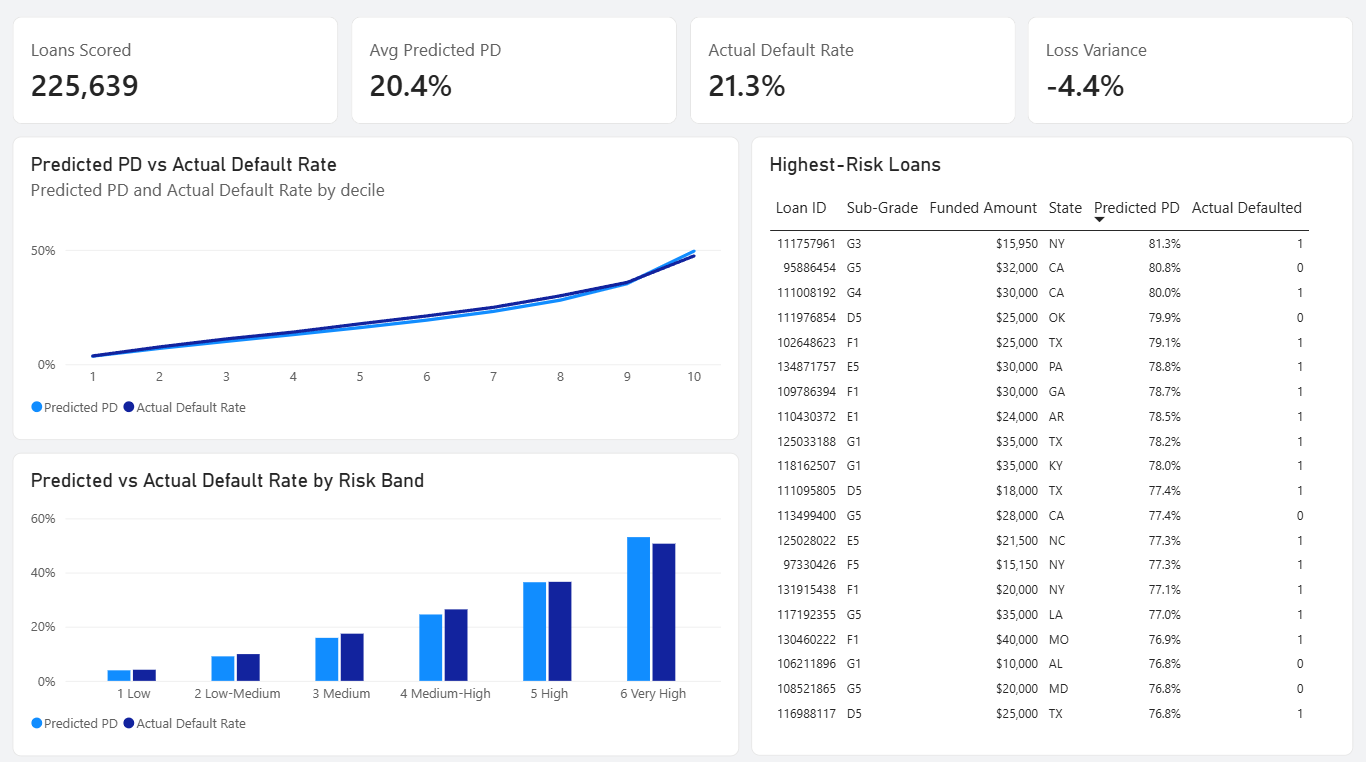

The page's visual inventory and layout, read from the dashboard file:
{"tool":"powerbi","page":{"name":"Model & Risk","canvas":[1280,720],"ordinal":2},"visuals":[{"type":"cardVisual","fields":{"Data":["fact_scored_loans.Actual Default Rate"]},"box":[646,16,303,100],"z":0},{"type":"cardVisual","fields":{"Data":["fact_scored_loans.Avg Predicted PD"]},"box":[331,16,303,100],"z":1000},{"type":"cardVisual","fields":{"Data":["fact_scored_loans.Loans Scored"]},"box":[16,16,303,100],"z":2000},{"type":"cardVisual","fields":{"Data":["fact_scored_loans.Loss Variance"]},"box":[961,16,303,100],"z":3000},{"type":"lineChart","title":"Predicted PD vs Actual Default Rate","fields":{"Category":["agg_model_calibration.decile"],"Y":["Sum(agg_model_calibration.avg_predicted_pd)","Sum(agg_model_calibration.actual_default_rate)"]},"box":[16,128,676,282],"z":4000},{"type":"clusteredColumnChart","title":"Predicted vs Actual Default Rate by Risk Band","fields":{"Category":["agg_risk_band_summary.risk_band"],"Y":["Sum(agg_risk_band_summary.avg_predicted_pd)","Sum(agg_risk_band_summary.actual_default_rate)"]},"box":[16,422,676,282],"z":5000},{"type":"tableEx","title":"Highest-Risk Loans","fields":{"Values":["fact_scored_loans.loan_id","fact_scored_loans.sub_grade","fact_scored_loans.funded_amnt","fact_scored_loans.state","fact_scored_loans.predicted_pd","fact_scored_loans.actual_default"]},"box":[704,128,560,576],"z":6000}]}

Visuals, with their boxes in screenshot pixels (x1, y1, x2, y2), scaled from the page's 1280x720 canvas onto the 1366x762 screenshot:
cardVisual - fact_scored_loans.Actual Default Rate: 689,17,1013,123
cardVisual - fact_scored_loans.Avg Predicted PD: 353,17,677,123
cardVisual - fact_scored_loans.Loans Scored: 17,17,340,123
cardVisual - fact_scored_loans.Loss Variance: 1026,17,1349,123
"Predicted PD vs Actual Default Rate" lineChart: 17,135,738,434
"Predicted vs Actual Default Rate by Risk Band" clusteredColumnChart: 17,447,738,745
"Highest-Risk Loans" tableEx: 751,135,1349,745
